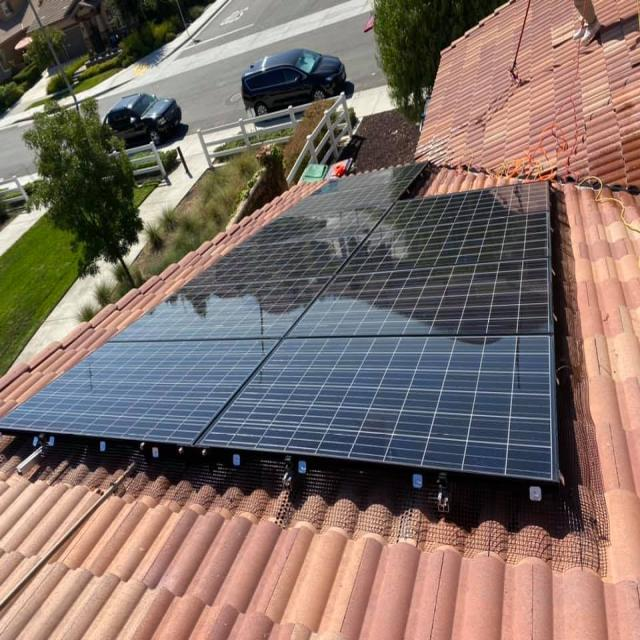clean-solar-panel: (0, 163, 559, 483)
